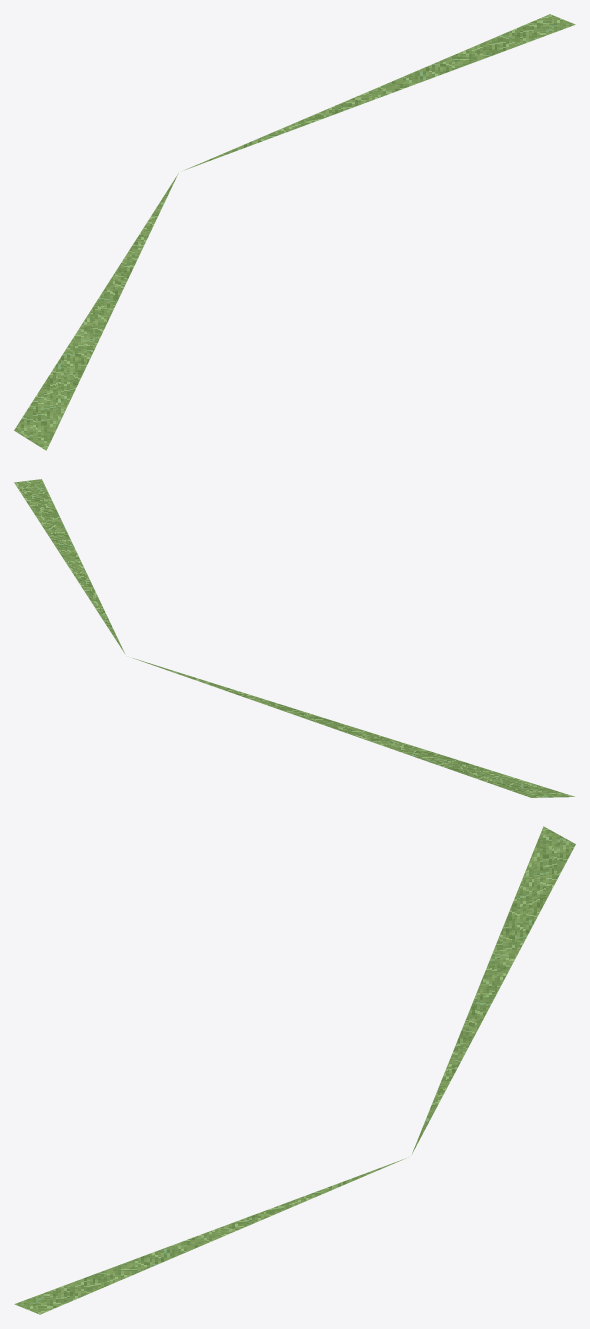
File: kd_stage_136282_3_55_bounded.glb
The picture shows the model from 3 angles, top to bottom: view 1: azimuth 90°, elevation 25°; view 2: azimuth 150°, elevation 25°; view 3: azimuth 270°, elevation 25°; orthographic projection. The views are drawn at different scales.
Parts seen in each view (by area): view 1: kd_stage_136282_3_55_bounded; view 2: kd_stage_136282_3_55_bounded; view 3: kd_stage_136282_3_55_bounded.
Boxes of the visible parts, bbox=[...] form: kd_stage_136282_3_55_bounded: bbox=[14, 14, 575, 450]; kd_stage_136282_3_55_bounded: bbox=[14, 479, 574, 797]; kd_stage_136282_3_55_bounded: bbox=[14, 826, 575, 1314].
Bounding box in the file's own units: 3.67 × 0.1 × 1.88.
Materials: 1 (1 with a texture image).
